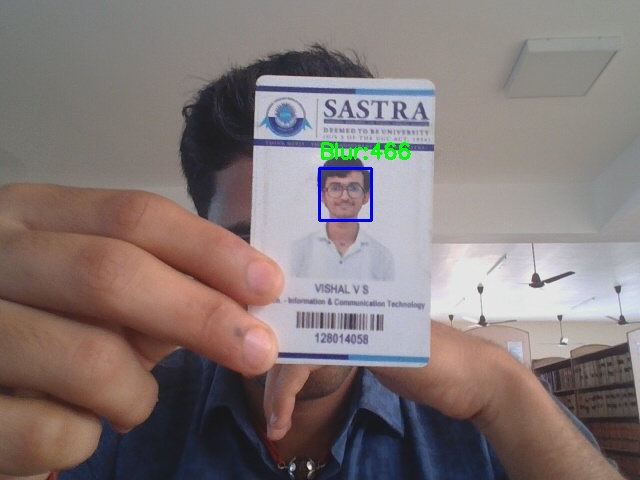fake: (319, 168, 371, 220)
